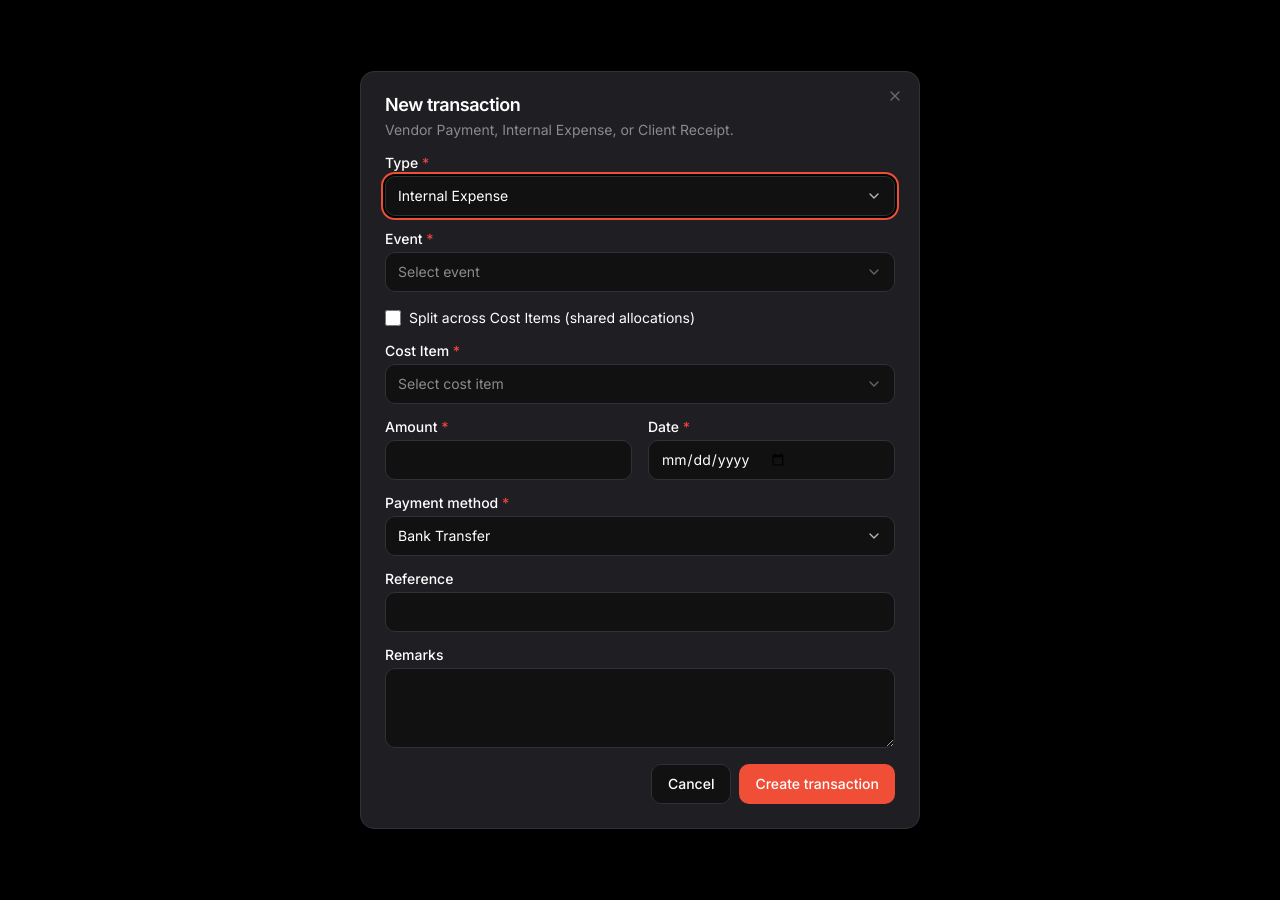
Test: transactions feature › shows shared allocation toggle on create form
Expected: the text "Split across Cost Items (shared allocations)" is shown, [385,309,695,326]
Click the checkbox at (393, 318), box [385,310,401,326]
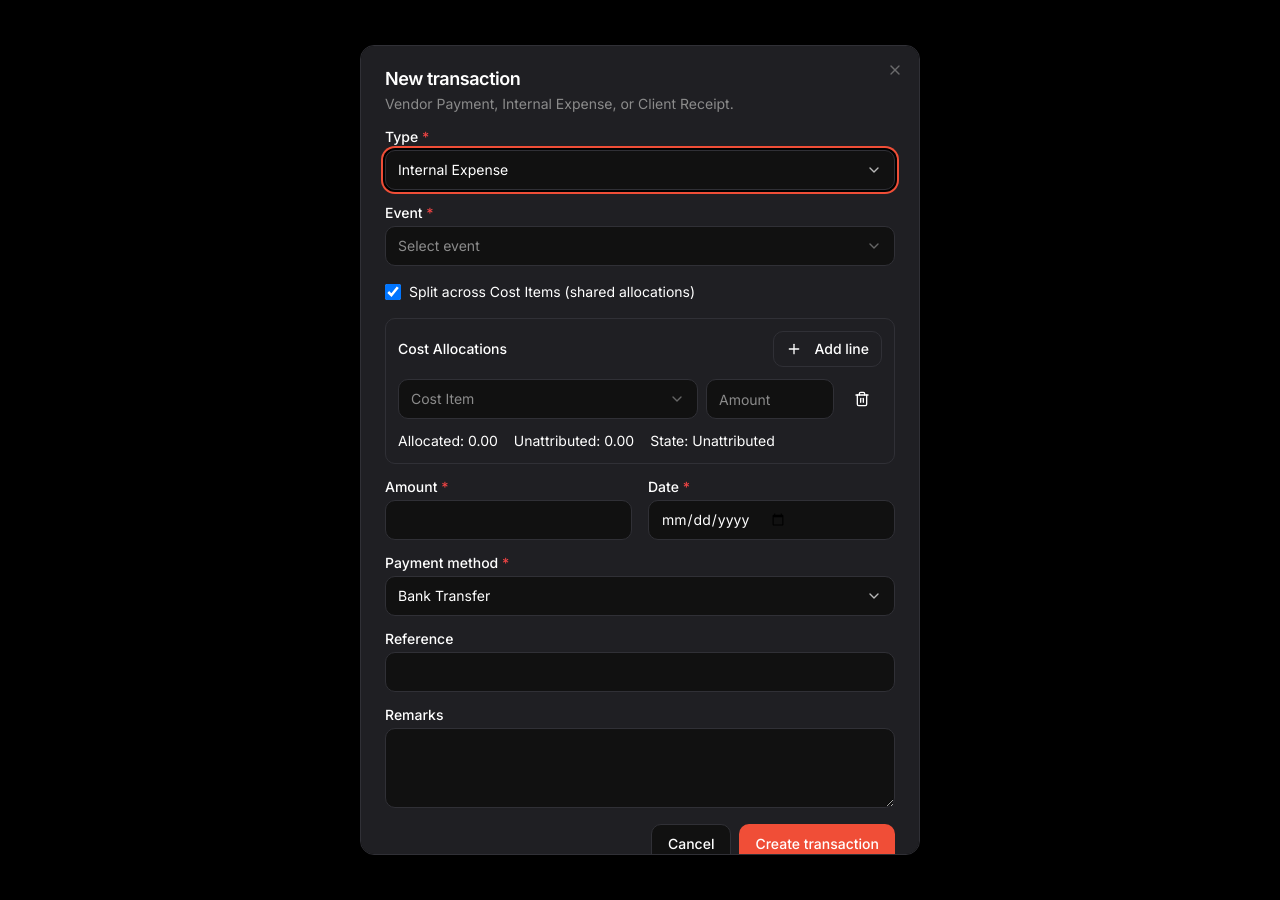
Expected: the text "Cost Allocations" is shown, [398,342,507,356]
